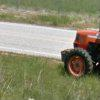Tractor: (50, 22, 100, 73)
